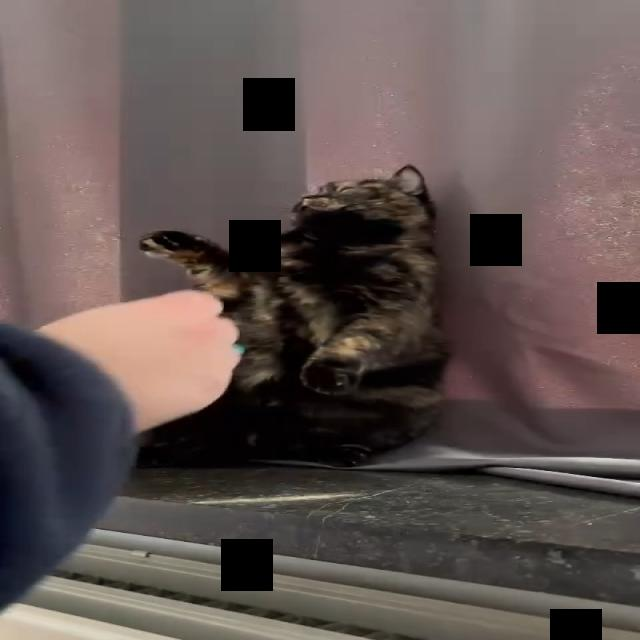authorized: (133, 163, 451, 469)
